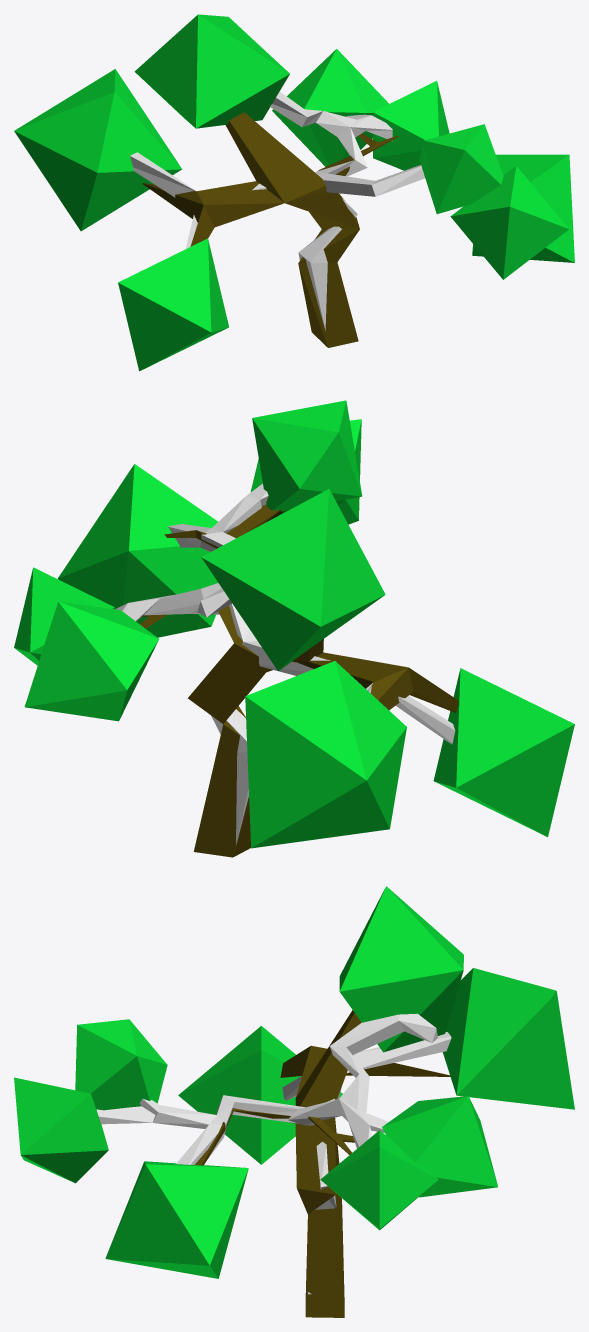
The model's file is Tree2.fbx.
The picture shows the model from 3 angles, top to bottom: view 1: azimuth 30°, elevation 25°; view 2: azimuth 150°, elevation 25°; view 3: azimuth 270°, elevation 25°; orthographic projection. The views are drawn at different scales.
Parts seen in each view (by area): view 1: Icosphere.001, Cube.001, Icosphere.003, Icosphere, Cube, Icosphere.008, Icosphere.004, Icosphere.009, Icosphere.005, Icosphere.006; view 2: Icosphere.001, Icosphere.003, Icosphere, Icosphere.006, Cube.001, Icosphere.004, Icosphere.009, Cube, Icosphere.005, Icosphere.008; view 3: Icosphere.001, Icosphere.006, Cube, Icosphere.003, Cube.001, Icosphere, Icosphere.004, Icosphere.008, Icosphere.009, Icosphere.005.
Part boxes in pixels (x1,y1,x2,y2): Icosphere.001: [14, 69, 182, 231]; Cube.001: [142, 112, 399, 347]; Icosphere.003: [134, 14, 289, 128]; Icosphere: [118, 238, 228, 371]; Cube: [130, 91, 424, 330]; Icosphere.008: [450, 166, 568, 279]; Icosphere.004: [272, 49, 388, 166]; Icosphere.009: [419, 124, 503, 214]; Icosphere.005: [373, 81, 449, 170]; Icosphere.006: [472, 154, 574, 262]; Icosphere.001: [245, 661, 406, 848]; Icosphere.003: [201, 489, 385, 670]; Icosphere: [433, 668, 574, 836]; Icosphere.006: [58, 464, 218, 637]; Cube.001: [140, 505, 458, 857]; Icosphere.004: [24, 601, 158, 721]; Icosphere.009: [252, 400, 362, 511]; Cube: [115, 483, 455, 845]; Icosphere.005: [14, 567, 114, 665]; Icosphere.008: [250, 419, 361, 524]; Icosphere.001: [443, 968, 574, 1109]; Icosphere.006: [105, 1161, 248, 1278]; Cube: [96, 1013, 451, 1294]; Icosphere.003: [339, 886, 463, 1052]; Cube.001: [195, 1010, 450, 1317]; Icosphere: [178, 1026, 342, 1164]; Icosphere.004: [382, 1096, 497, 1197]; Icosphere.008: [14, 1077, 108, 1183]; Icosphere.009: [75, 1019, 167, 1110]; Icosphere.005: [320, 1130, 438, 1230].
Bounding box in the file's own units: 424 × 311 × 433.
